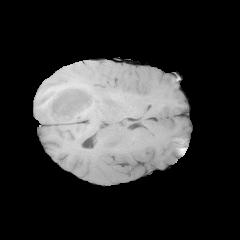glioma: (45, 82, 98, 123)
